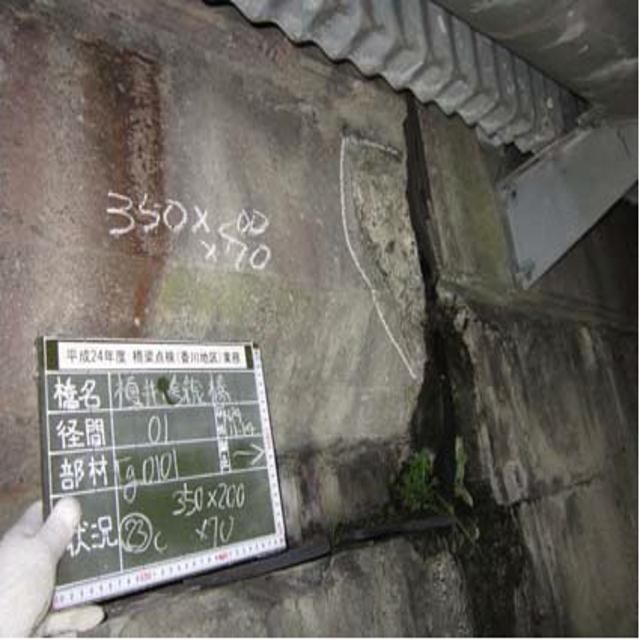spalling: (94, 51, 189, 280), (346, 144, 440, 366)
